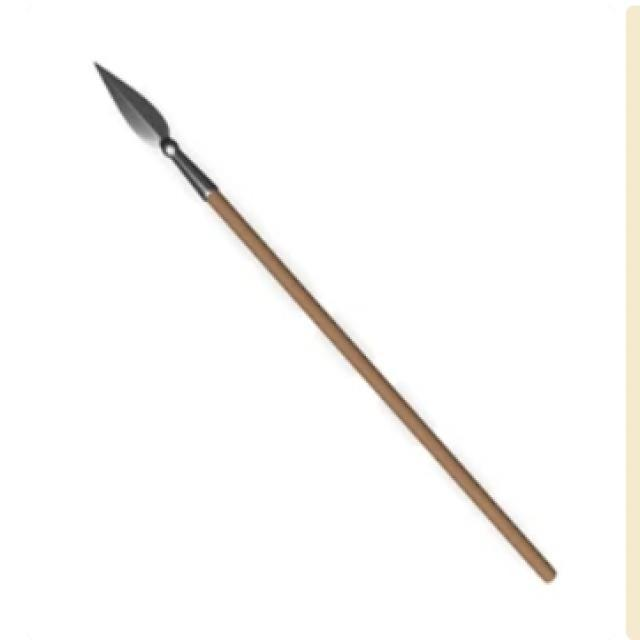spear: (87, 36, 577, 590)
